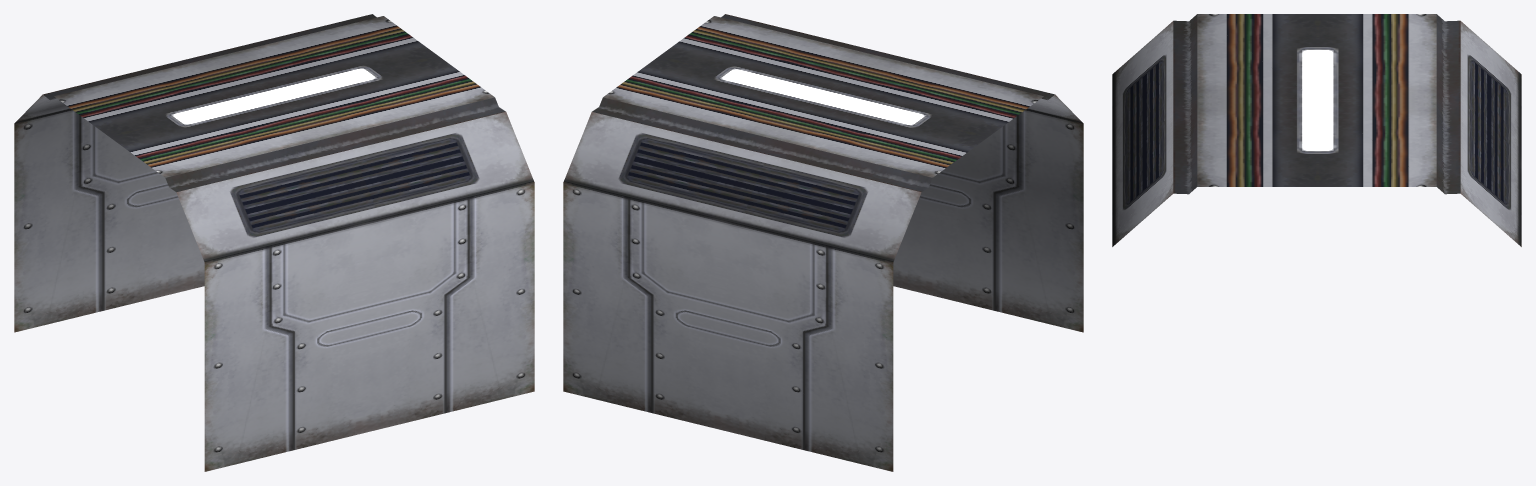
Rendered from MESH_CORREDOR_NORMAL.fbx.
The picture shows the model from 3 angles, left to right: view 1: azimuth 30°, elevation 25°; view 2: azimuth 150°, elevation 25°; view 3: azimuth 270°, elevation 25°; orthographic projection. The views are drawn at different scales.
Visible parts, largest first — view 1: MESH_CORREDOR_NORMAL; view 2: MESH_CORREDOR_NORMAL; view 3: MESH_CORREDOR_NORMAL.
Part boxes in pixels (x1=…): MESH_CORREDOR_NORMAL: x1=14, y1=14, x2=534, y2=471; MESH_CORREDOR_NORMAL: x1=563, y1=14, x2=1083, y2=471; MESH_CORREDOR_NORMAL: x1=1112, y1=14, x2=1521, y2=246.
Size of the model in its own units: 4 by 3.07 by 4.
